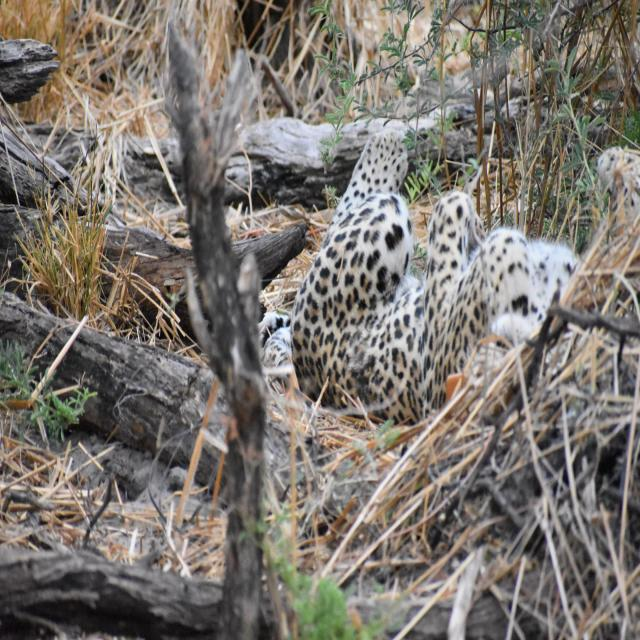Leopard: (257, 134, 593, 418)
